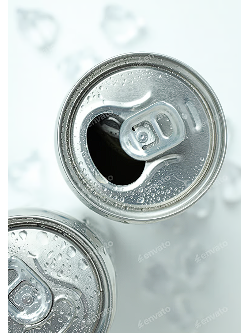Danificado: (65, 61, 228, 208)
Intacto: (0, 219, 114, 333)
